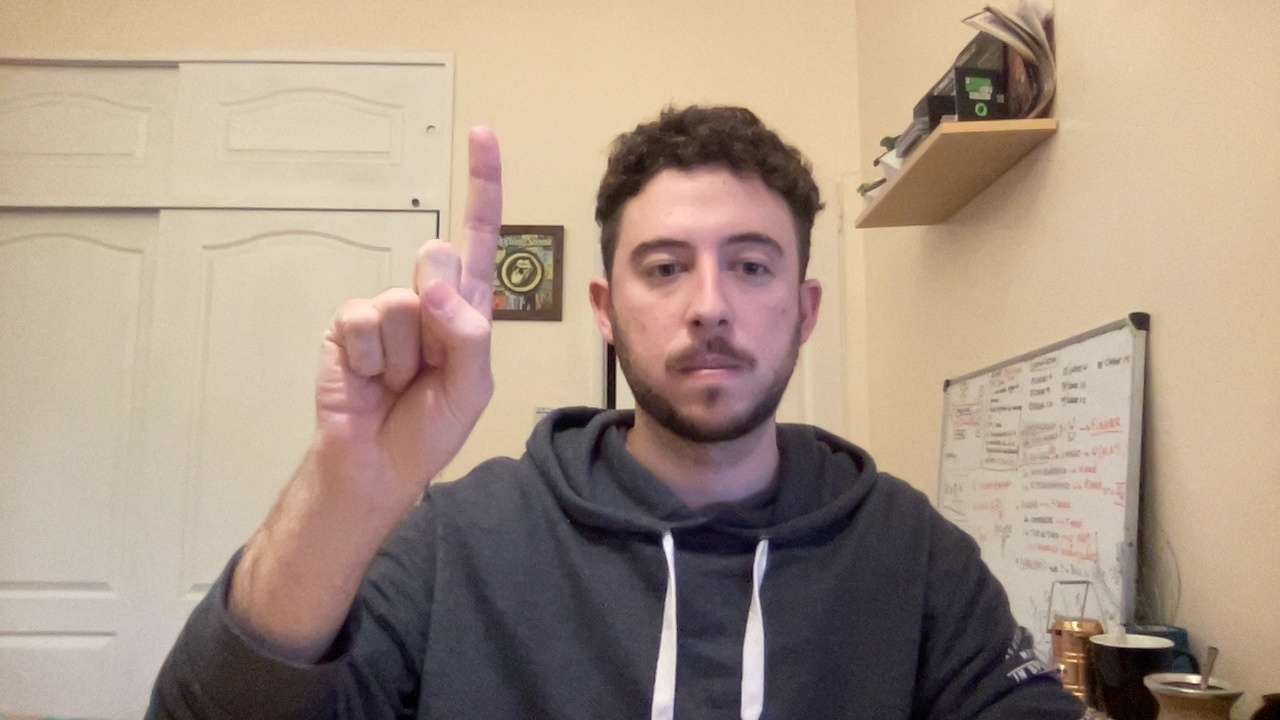indice: (275, 117, 521, 497)
